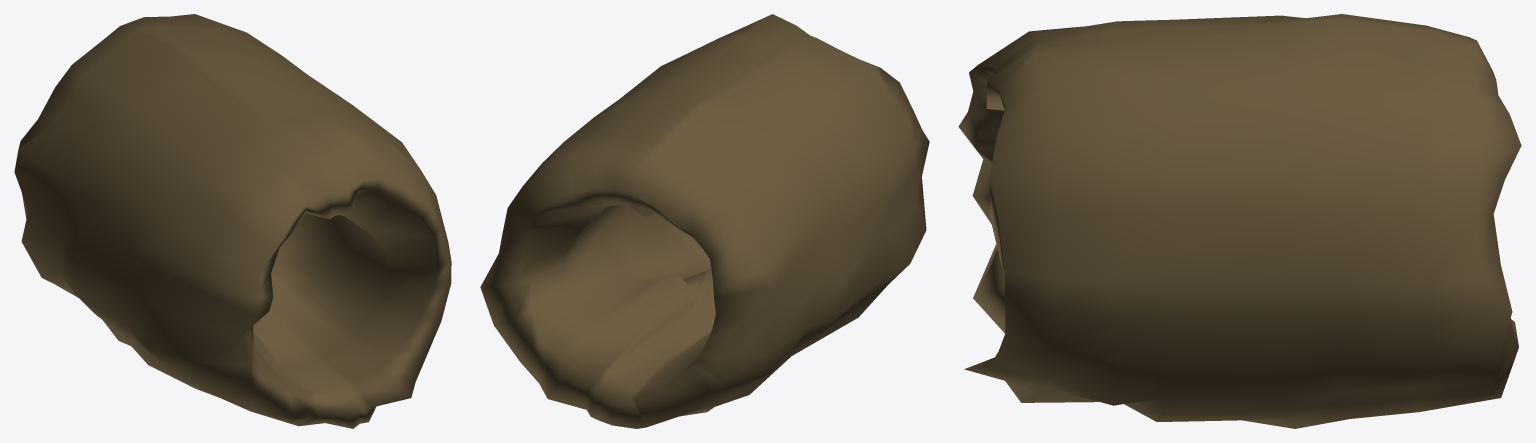
The picture shows the model from 3 angles, left to right: view 1: azimuth 30°, elevation 25°; view 2: azimuth 150°, elevation 25°; view 3: azimuth 270°, elevation 25°; orthographic projection. The views are drawn at different scales.
Visible parts, largest first — view 1: pTorus6; view 2: pTorus6; view 3: pTorus6.
Boxes of the visible parts, x1,y1,x2,y2 form: pTorus6: (14, 14, 451, 428); pTorus6: (480, 14, 929, 428); pTorus6: (958, 14, 1521, 428).
Bounding box in the file's own units: 303 × 310 × 417.
